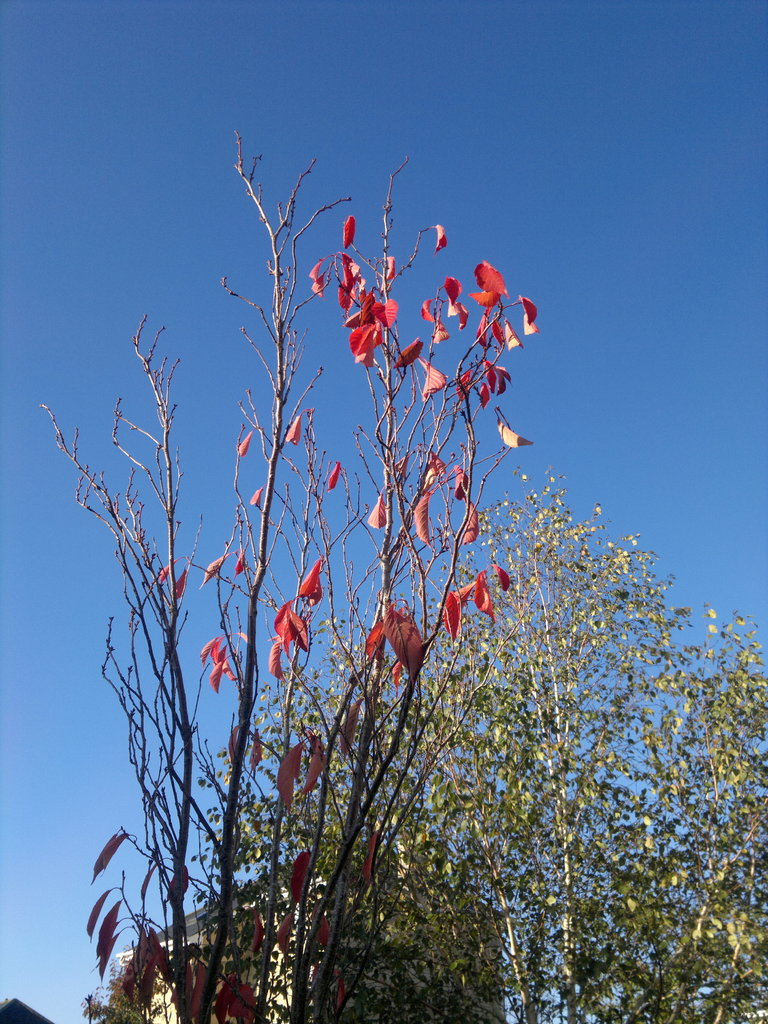Tree: (34, 125, 536, 1023), (183, 461, 767, 1023)
